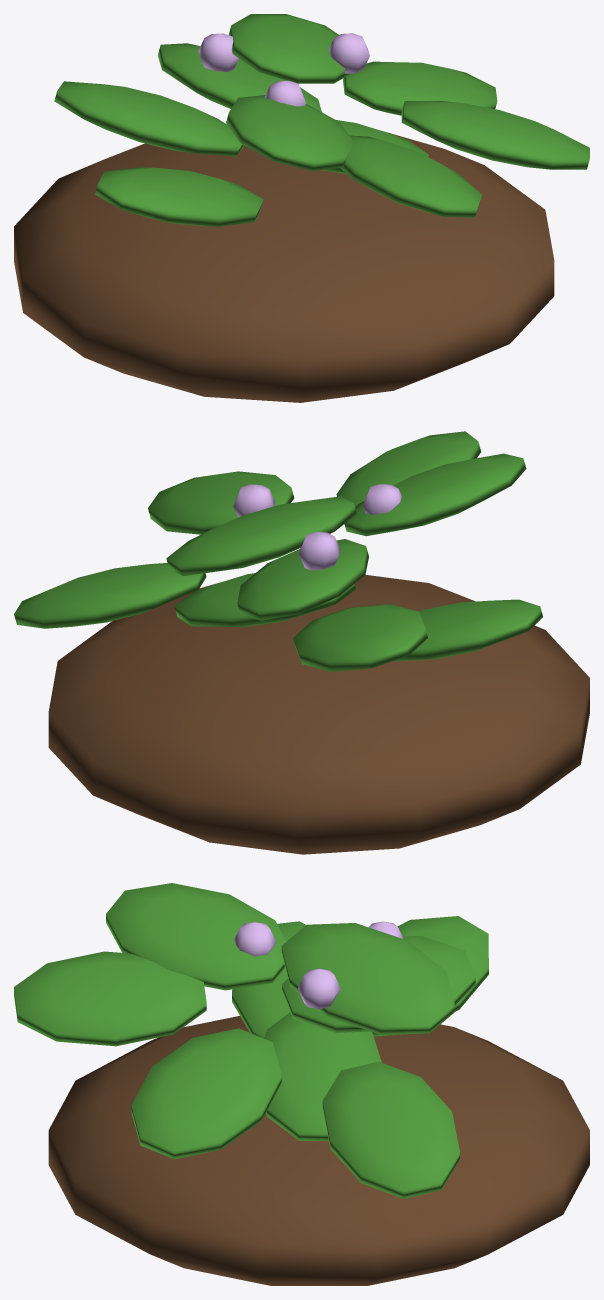
File: potato.glb
The picture shows the model from 3 angles, top to bottom: view 1: azimuth 30°, elevation 25°; view 2: azimuth 150°, elevation 25°; view 3: azimuth 270°, elevation 25°; orthographic projection.
Visible parts, largest first — view 1: potato; view 2: potato; view 3: potato.
Boxes of the visible parts, x1=… form: potato: x1=14, y1=14, x2=589, y2=402; potato: x1=14, y1=431, x2=589, y2=854; potato: x1=14, y1=883, x2=589, y2=1285.
Bounding box in the file's own units: 0.8987 × 0.516 × 0.9335.
